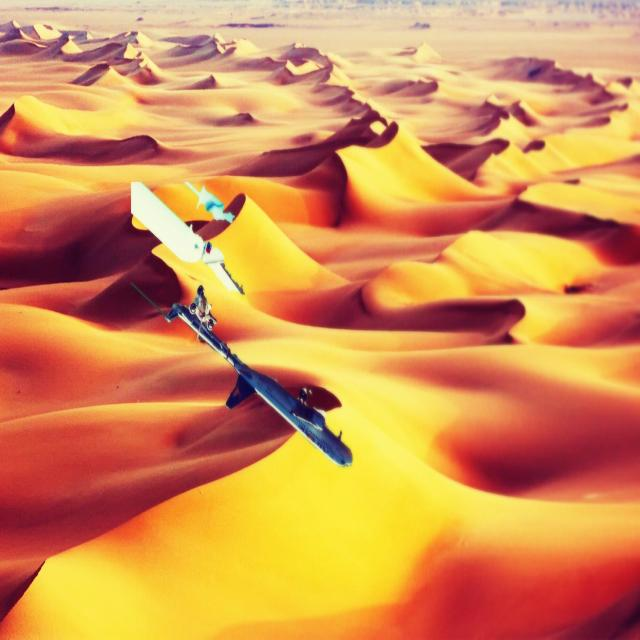airplane: (130, 280, 353, 468), (130, 179, 245, 296)
